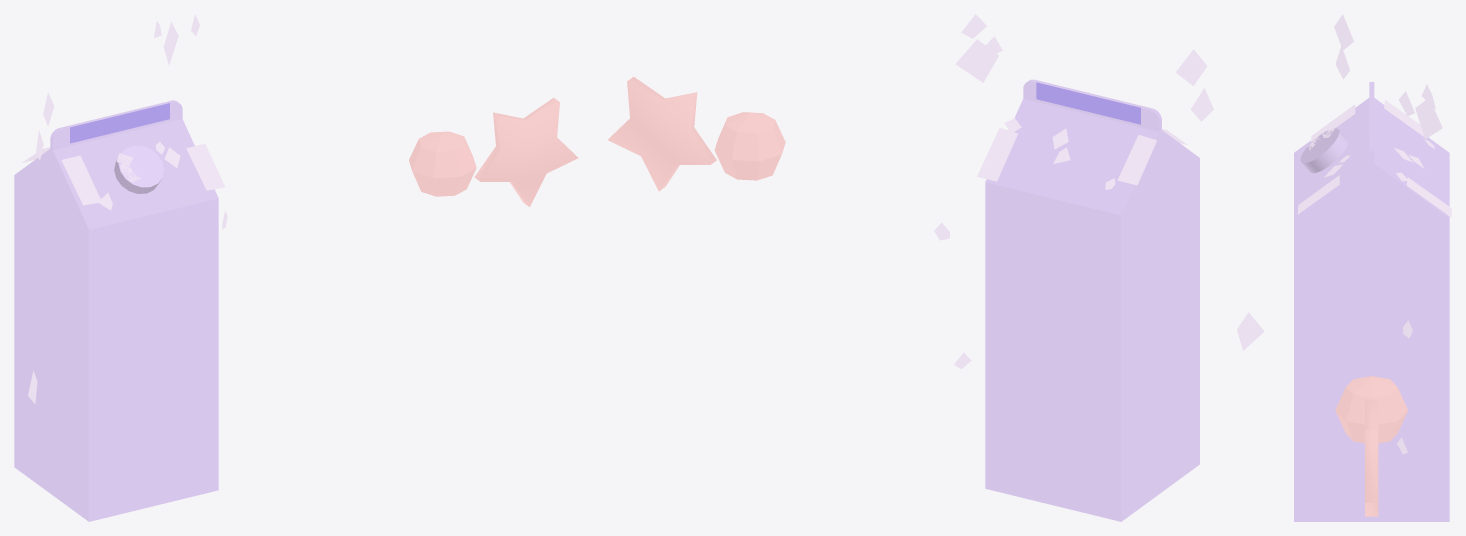
File: space_milk.glb
3 renders of one model, left to right at view 1: azimuth 30°, elevation 25°; view 2: azimuth 150°, elevation 25°; view 3: azimuth 270°, elevation 25°, orthographic. The views are drawn at different scales.
Parts seen in each view (by area): view 1: Cube, star, smallspheres, Cylinder, Plane.001, Plane.007, Plane.003; view 2: Cube, star, smallspheres, Plane.002, Plane.022, Plane.023, Plane.006; view 3: Cube, smallspheres, star, Cylinder, Plane.006, Plane.022, Plane.007, Plane.015, Plane.023, Plane.003, Plane.014, Plane.017.
Part boxes in pixels (x1=…): Cube: x1=14, y1=100, x2=218, y2=521; star: x1=474, y1=97, x2=578, y2=207; smallspheres: x1=409, y1=131, x2=476, y2=196; Cylinder: x1=114, y1=145, x2=164, y2=193; Plane.001: x1=70, y1=103, x2=169, y2=143; Plane.007: x1=186, y1=143, x2=224, y2=190; Plane.003: x1=61, y1=155, x2=101, y2=205; Cube: x1=985, y1=79, x2=1199, y2=521; star: x1=608, y1=76, x2=716, y2=191; smallspheres: x1=714, y1=112, x2=785, y2=180; Plane.002: x1=1036, y1=82, x2=1140, y2=124; Plane.022: x1=977, y1=128, x2=1017, y2=181; Plane.023: x1=1117, y1=135, x2=1156, y2=185; Plane.006: x1=955, y1=39, x2=998, y2=82; Cube: x1=1294, y1=82, x2=1449, y2=521; smallspheres: x1=1335, y1=376, x2=1408, y2=443; star: x1=1365, y1=399, x2=1378, y2=516; Cylinder: x1=1300, y1=128, x2=1348, y2=173; Plane.006: x1=1415, y1=98, x2=1442, y2=139; Plane.022: x1=1406, y1=177, x2=1451, y2=217; Plane.007: x1=1297, y1=175, x2=1339, y2=214; Plane.015: x1=1334, y1=14, x2=1353, y2=50; Plane.023: x1=1384, y1=100, x2=1424, y2=136; Plane.003: x1=1311, y1=104, x2=1355, y2=142; Plane.014: x1=1335, y1=46, x2=1349, y2=79; Plane.017: x1=1399, y1=91, x2=1414, y2=115.
Size of what is drawn, in the model's own units: 5.94 by 4.16 by 1.34.
